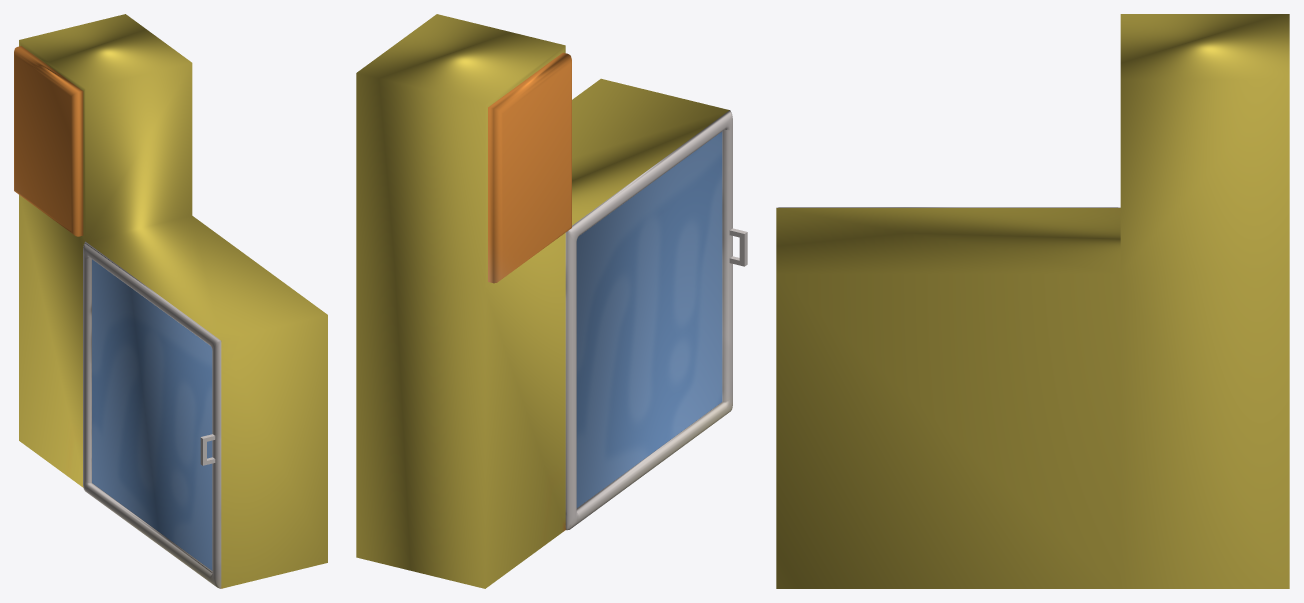
Rendered from AlmacénComida.fbx.
3 renders of one model, left to right at view 1: azimuth 30°, elevation 25°; view 2: azimuth 150°, elevation 25°; view 3: azimuth 270°, elevation 25°, orthographic. The views are drawn at different scales.
Visible parts, largest first — view 1: Cube.008; view 2: Cube.008; view 3: Cube.008.
Part boxes in pixels (box(x1,y1,x2,y2)): Cube.008: box(14, 14, 327, 588); Cube.008: box(356, 14, 747, 588); Cube.008: box(776, 14, 1289, 588).
Size of the model in its own units: 0.803 by 2.5 by 2.28.
